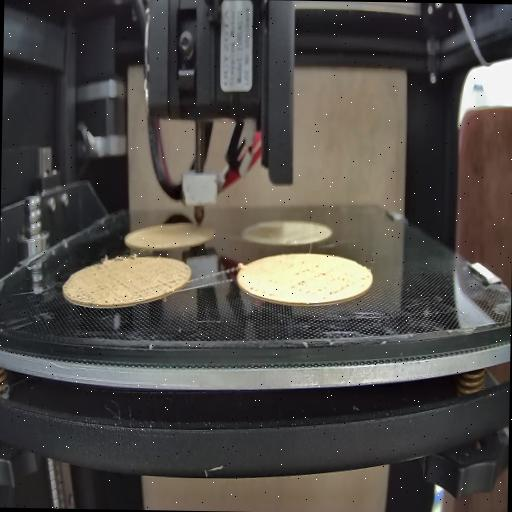under_extrusion: (289, 257, 353, 299), (78, 272, 130, 304), (145, 270, 179, 296), (248, 279, 278, 299)
